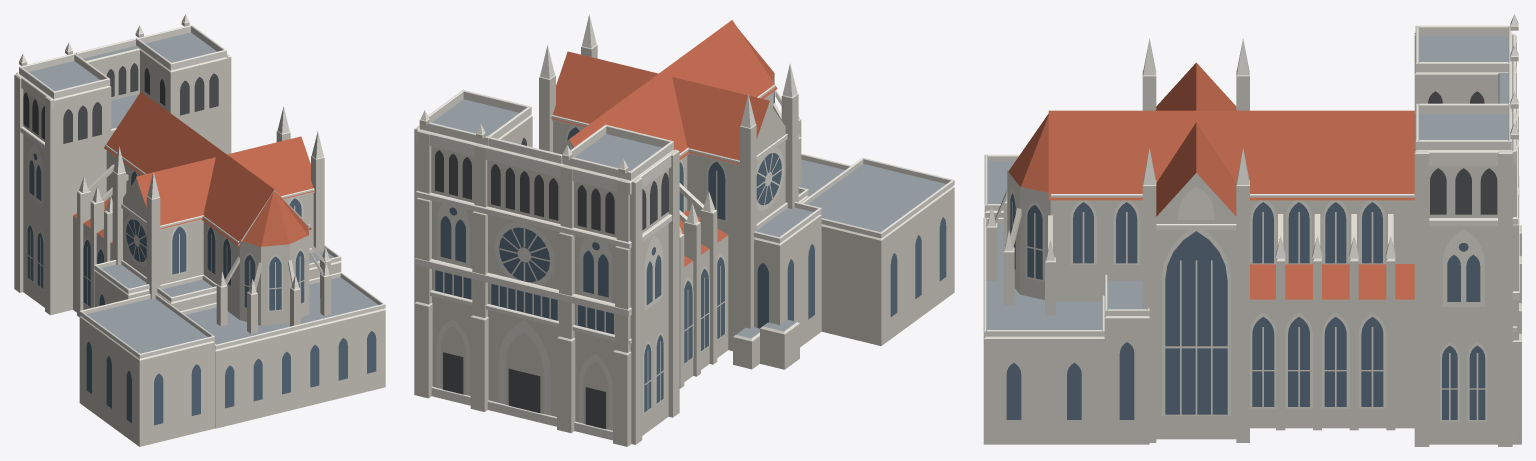
The model's file is cin-cathedral-basilica-assumption.glb.
3 views of the same model, side by side, from view 1: azimuth 30°, elevation 25°; view 2: azimuth 150°, elevation 25°; view 3: azimuth 270°, elevation 25° (orthographic). The views are drawn at different scales.
Visible parts, largest first — view 1: Cathedral Basilica of the Assumption; view 2: Cathedral Basilica of the Assumption; view 3: Cathedral Basilica of the Assumption.
Boxes of the visible parts, x1,y1,x2,y2 form: Cathedral Basilica of the Assumption: (14,14,385,446); Cathedral Basilica of the Assumption: (414,14,954,446); Cathedral Basilica of the Assumption: (983,14,1521,446).
Bounding box in the file's own units: 42.96 × 38.3 × 58.76.
